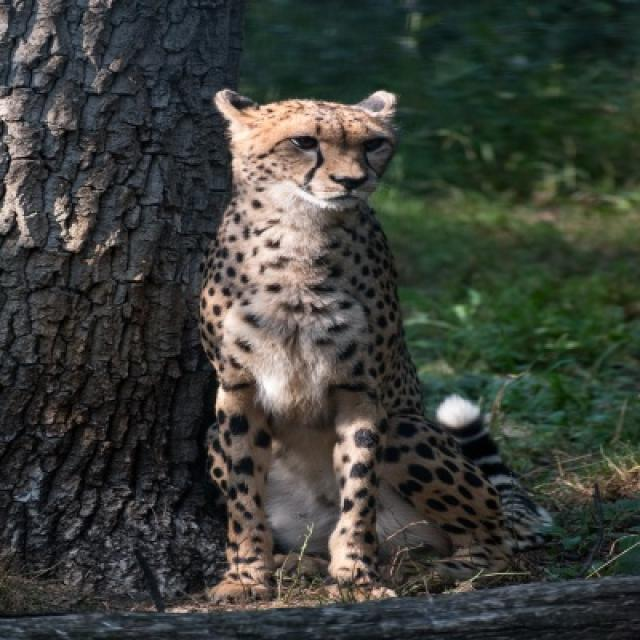Cheetah: (195, 88, 553, 608)
